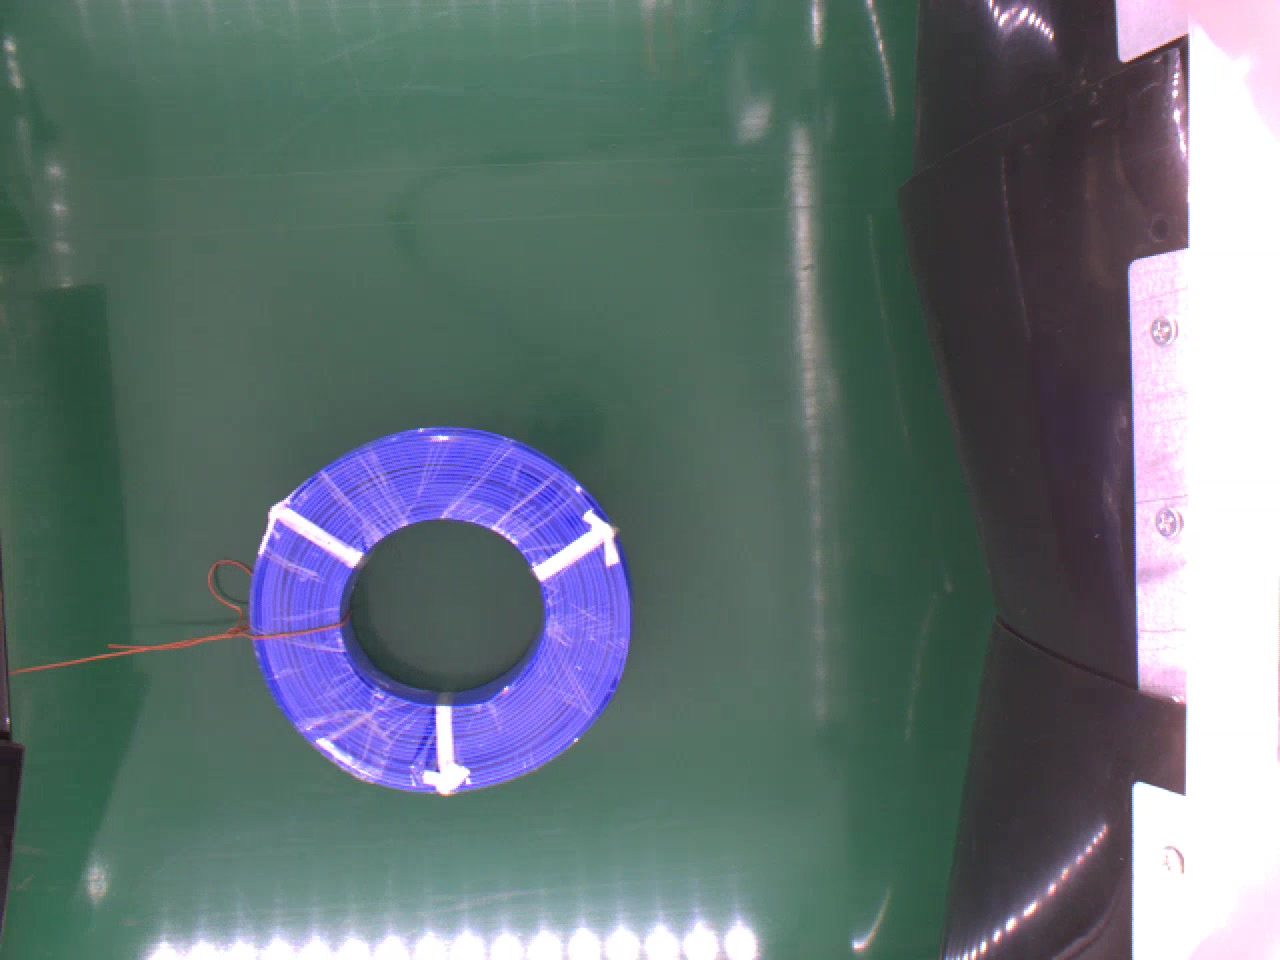blue: (246, 421, 630, 797)
